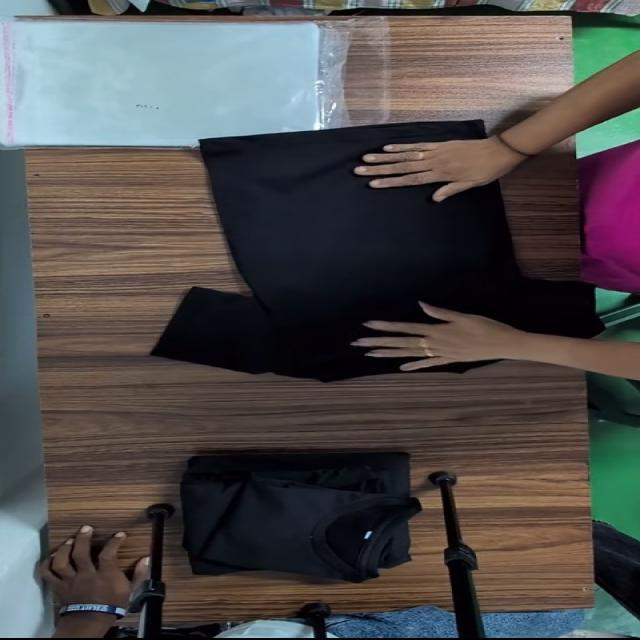new-garment: (157, 121, 599, 381)
